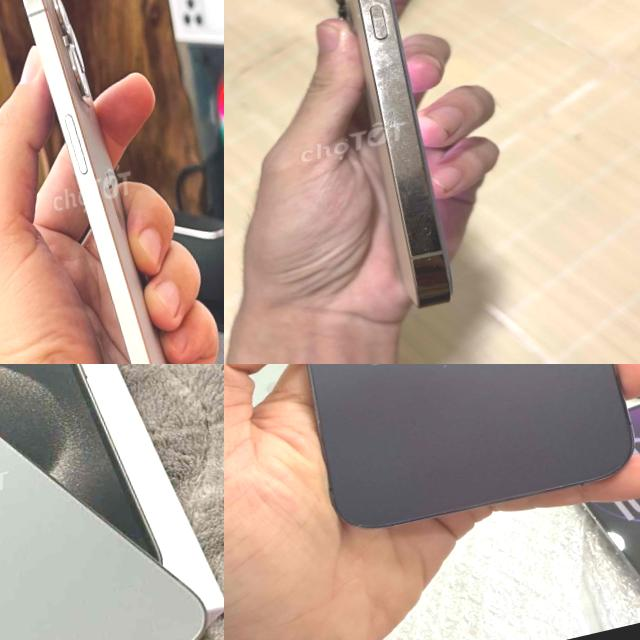scratch: (373, 59, 416, 140), (333, 0, 400, 49), (412, 216, 457, 272)
